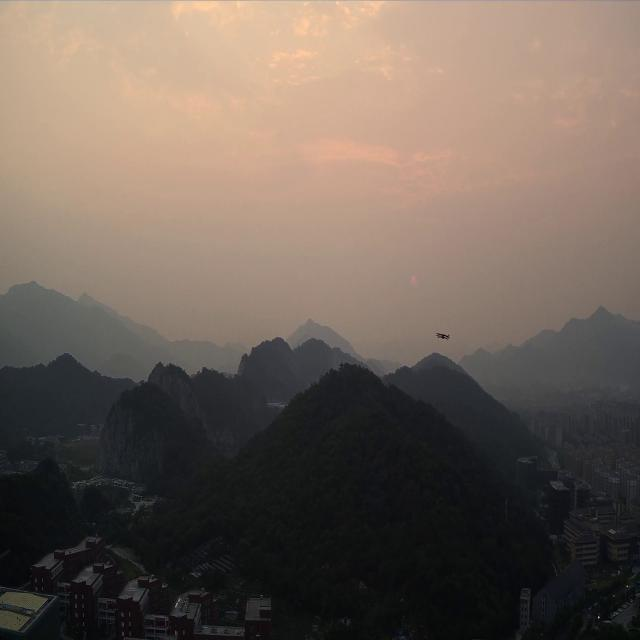UAV: (434, 332, 451, 341)
